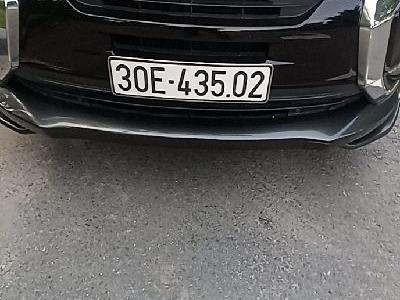lisence: (105, 54, 274, 105)
